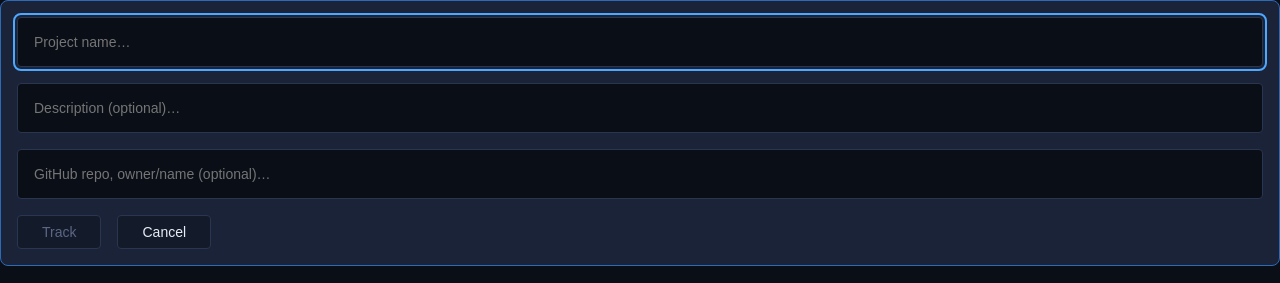
Scenario: ProjectForm › Track is disabled until a name is entered
Expected: the button "Track" is disabled, [17,215,102,249]
Type "KANG v0.1" into the field with placeholder "Project name…". click: {"x": 640, "y": 42}
box: [17,17,1263,67]
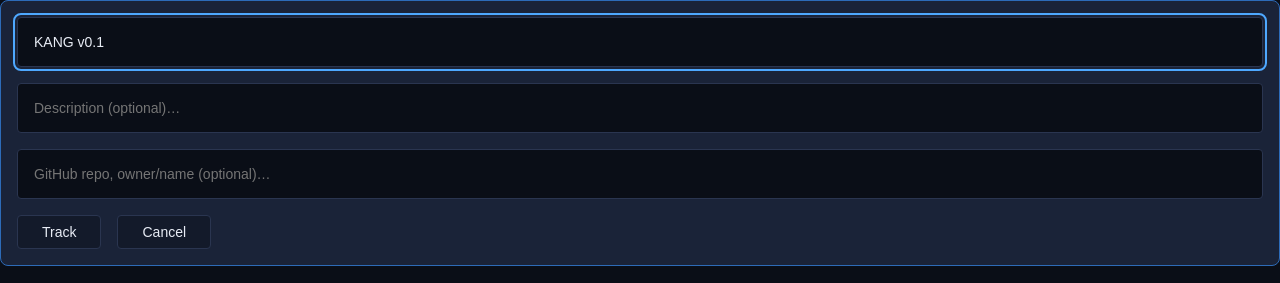
Expected: the button "Track" is enabled, [17,215,102,249]
